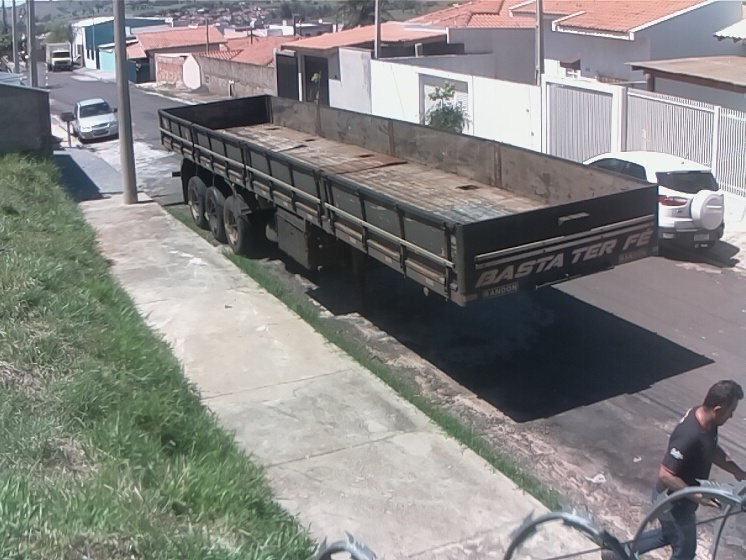person: (609, 377, 746, 560)
